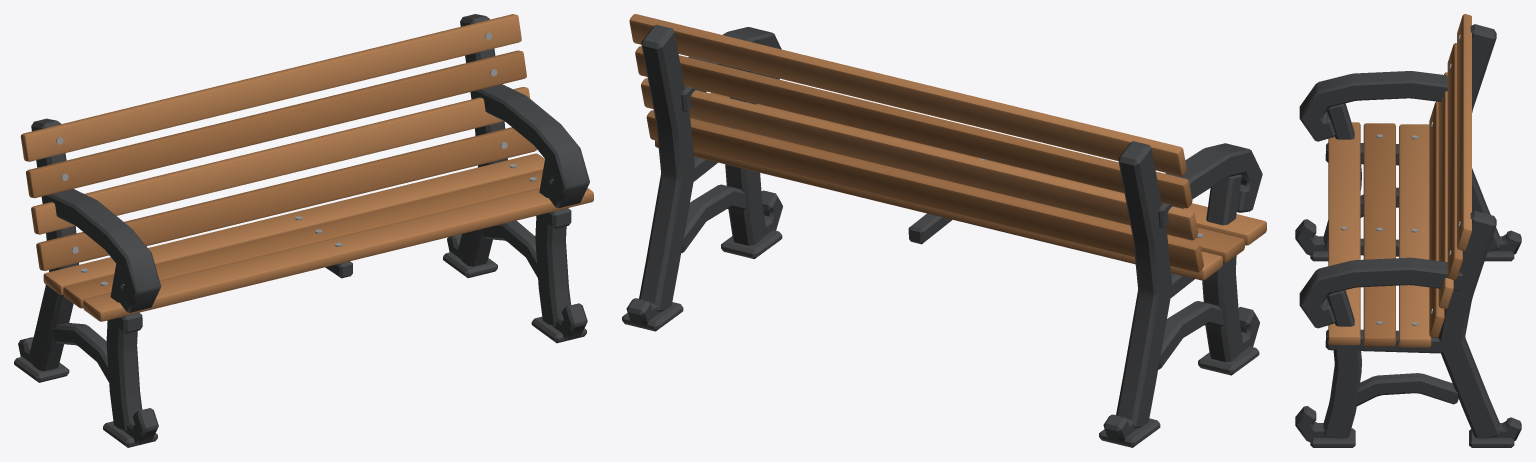
File: Bench.fbx
3 views of the same model, side by side, from view 1: azimuth 30°, elevation 25°; view 2: azimuth 150°, elevation 25°; view 3: azimuth 270°, elevation 25° (orthographic). The views are drawn at different scales.
Visible parts, largest first — view 1: Bench_Mesh; view 2: Bench_Mesh; view 3: Bench_Mesh.
Boxes of the visible parts, <box> form: Bench_Mesh: <box>14,14,593,447</box>; Bench_Mesh: <box>622,14,1266,447</box>; Bench_Mesh: <box>1295,14,1521,447</box>.
Size of the model in its own units: 1.8 by 0.8902 by 0.7995.
